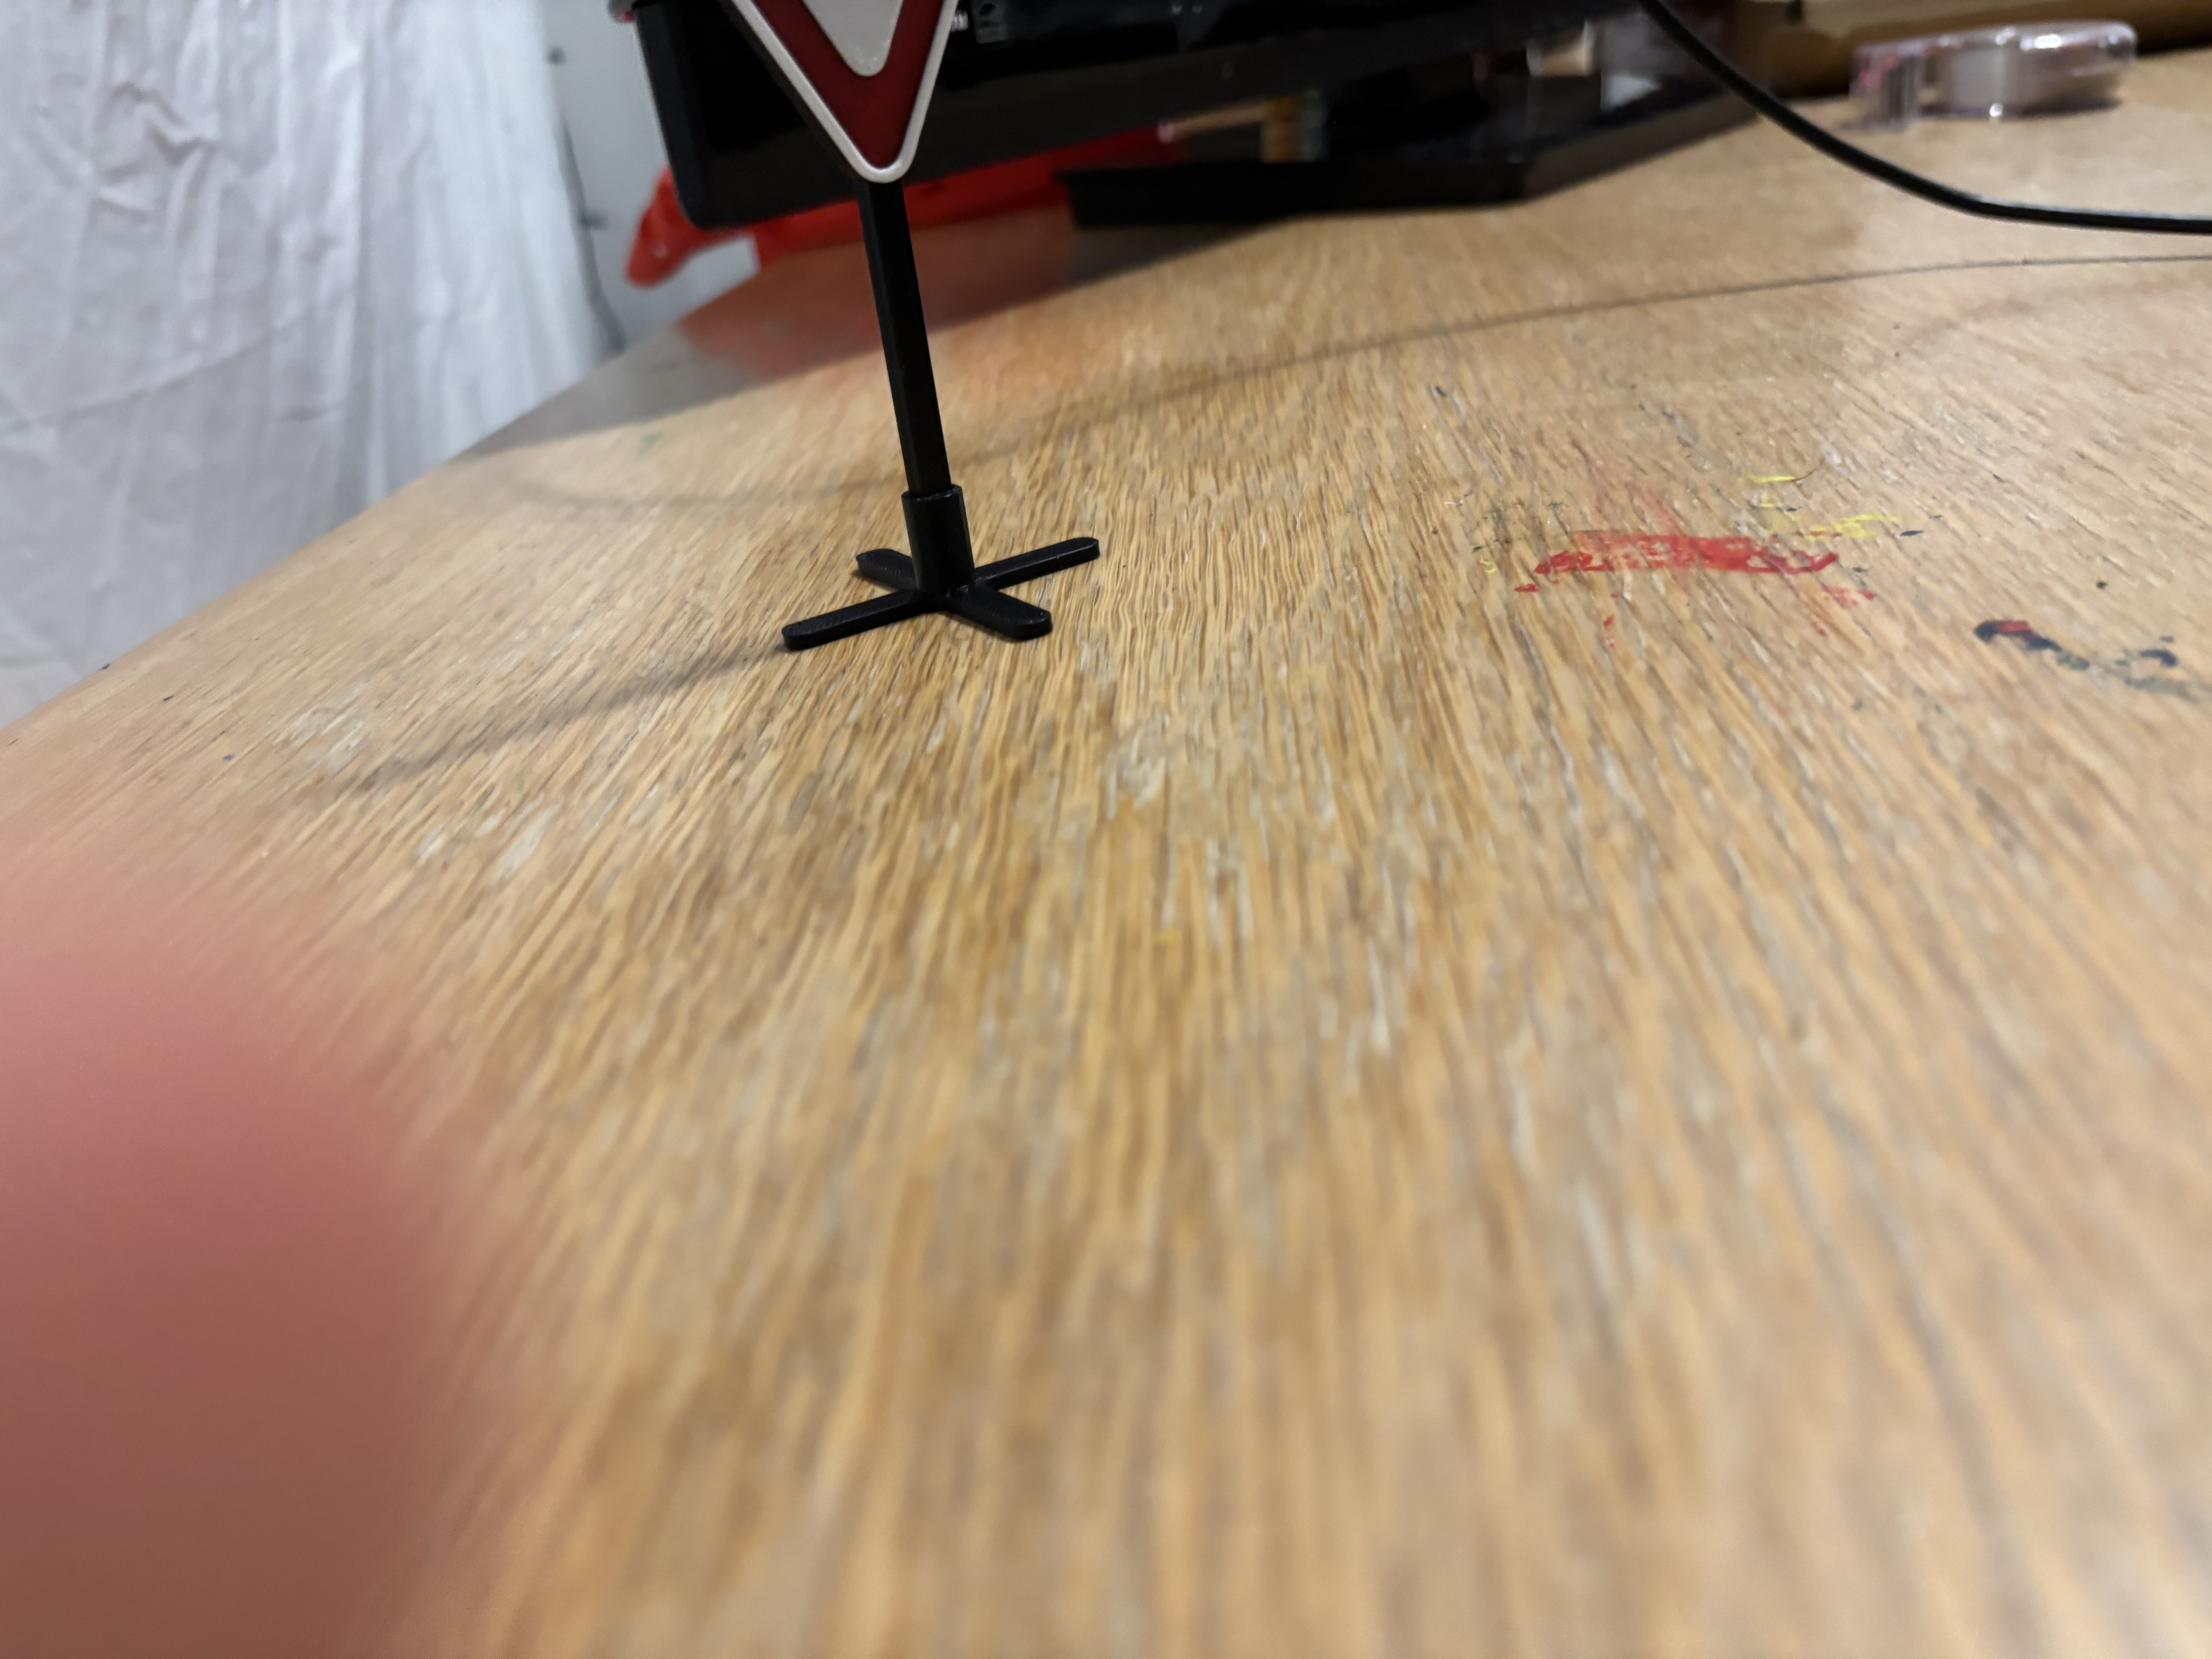sign_yield: (714, 0, 974, 221)
